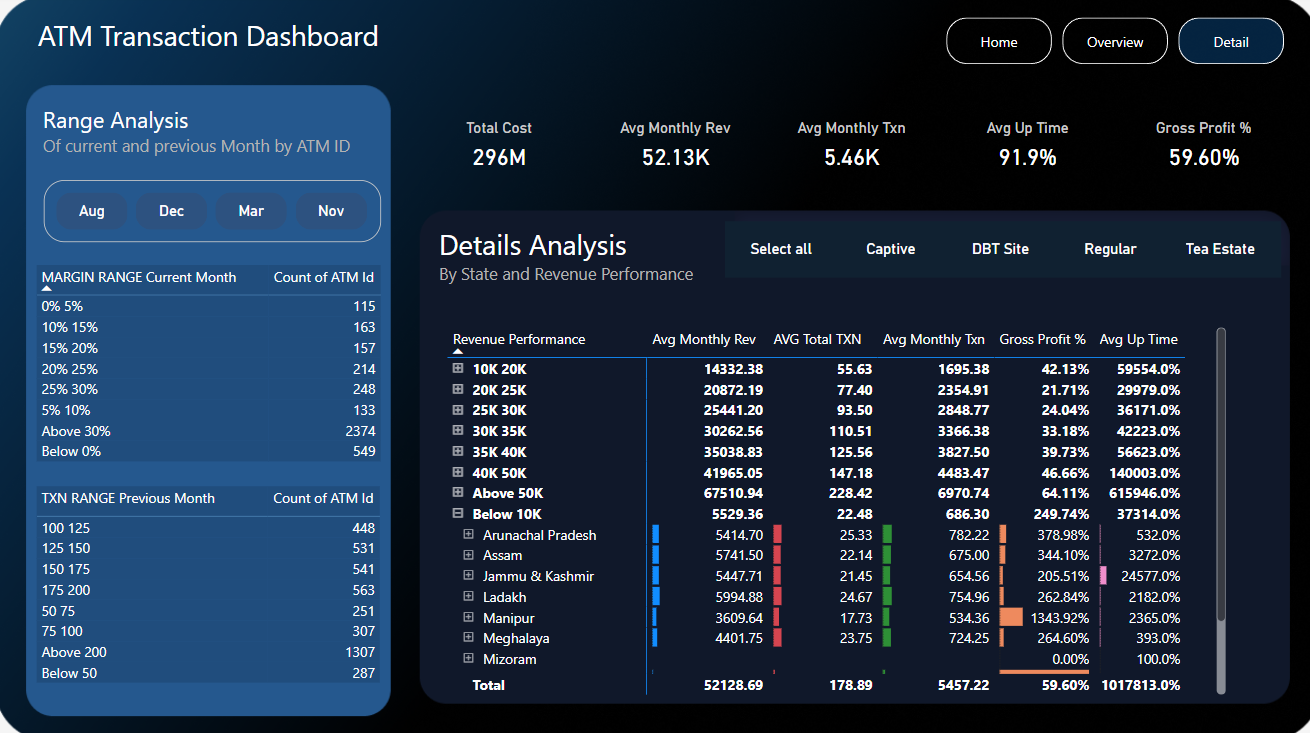

Layout of this report page (visuals, bound fields, positions):
{"tool":"powerbi","page":{"name":"Detail","canvas":[1280,720],"ordinal":2},"visuals":[{"type":"tableEx","fields":{"Values":["Dataset.MARGIN RANGE Current Month","Dataset.ATM Id"]},"box":[33.8,255.8,343.8,205.1],"z":0},{"type":"tableEx","fields":{"Values":["Dataset.TXN RANGE Previous Month","Dataset.ATM Id"]},"box":[33.8,469.3,343.8,211.1],"z":1000},{"type":"textbox","box":[41.2,100.2,336.2,83.7],"z":2000},{"type":"pivotTable","fields":{"Rows":["Dataset.Revenue Performance","Dataset.STATE","Dataset.ATM Id"],"Values":["Avg(Dataset.Monthly Rev)","Avg(Dataset.AVG Total TXN)","Avg(Dataset.Monthly Txn)","Dataset.Gross Profit percentage","Sum(Dataset.Up Time)"]},"box":[431.9,316.1,761.3,364.3],"z":3000},{"type":"cardVisual","fields":{"Data":["Sum(Dataset. Total Cost  )","Avg(Dataset.Monthly Rev)","Avg(Dataset.Monthly Txn)","Avg(Dataset.Up Time)","Dataset.Gross Profit percentage"]},"box":[400.7,86.4,854.9,115.3],"z":4000},{"type":"pageNavigator","box":[918.1,21.7,326.9,45.8],"z":5000},{"type":"textbox","box":[35.7,15.1,358.1,59],"z":6000},{"type":"textbox","box":[423.5,217.2,264.2,76],"z":7000},{"type":"advancedSlicerVisual","title":"Title","fields":{"Values":["Dataset.ATM TYPE"]},"box":[704.6,218.4,536.9,54.3],"z":8000},{"type":"advancedSlicerVisual","fields":{"Values":["Dataset.Short_Month"]},"box":[47.1,178.6,325.7,60.3],"z":9000}]}

Visuals, with their boxes in screenshot pixels (x1, y1, x2, y2), scaled from the page's 1280x720 canvas onto the 1310x733 screenshot:
tableEx - Dataset.MARGIN RANGE Current Month x Dataset.ATM Id: (x1=35, y1=260, x2=386, y2=469)
tableEx - Dataset.TXN RANGE Previous Month x Dataset.ATM Id: (x1=35, y1=478, x2=386, y2=693)
textbox: (x1=42, y1=102, x2=386, y2=187)
pivotTable - Dataset.Revenue Performance x Dataset.STATE: (x1=442, y1=322, x2=1221, y2=693)
cardVisual - Sum(Dataset. Total Cost  ) x Avg(Dataset.Monthly Rev): (x1=410, y1=88, x2=1285, y2=205)
pageNavigator: (x1=940, y1=22, x2=1274, y2=69)
textbox: (x1=37, y1=15, x2=403, y2=75)
textbox: (x1=433, y1=221, x2=704, y2=298)
"Title" advancedSlicerVisual: (x1=721, y1=222, x2=1271, y2=278)
advancedSlicerVisual - Dataset.Short_Month: (x1=48, y1=182, x2=382, y2=243)
